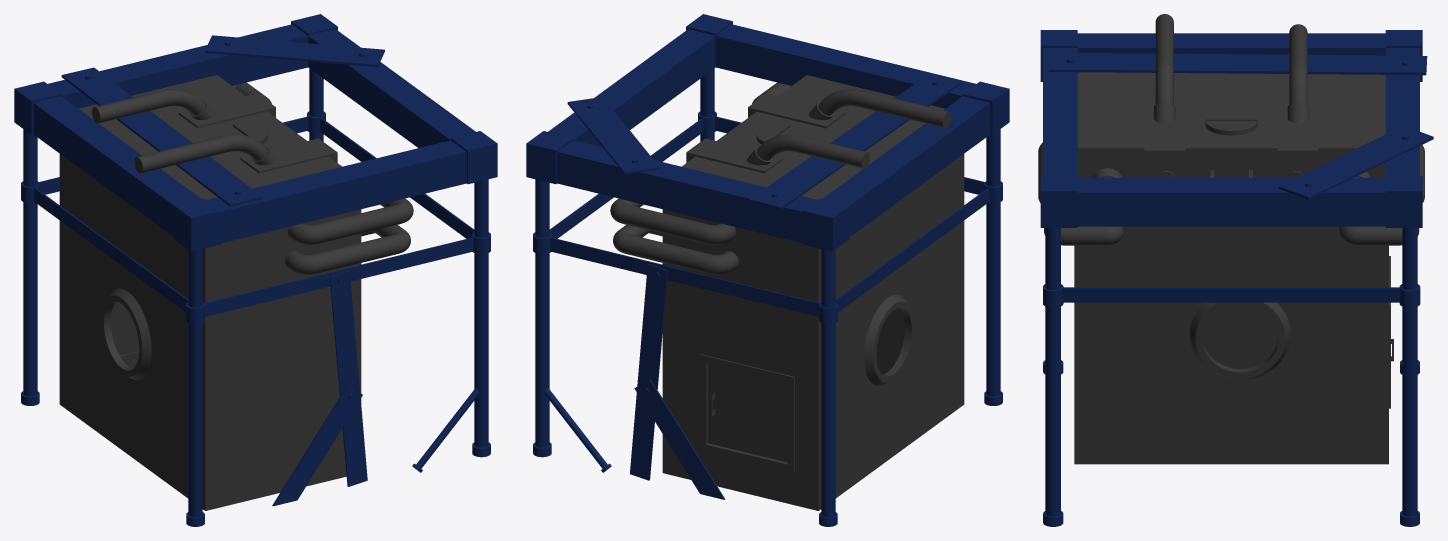
File: Mesh_GreenGym_Base_Glove01.FBX
3 renders of one model, left to right at view 1: azimuth 30°, elevation 25°; view 2: azimuth 150°, elevation 25°; view 3: azimuth 270°, elevation 25°, orthographic. The views are drawn at different scales.
Parts seen in each view (by area): view 1: Mesh_GreenGym_Base_Glove01; view 2: Mesh_GreenGym_Base_Glove01; view 3: Mesh_GreenGym_Base_Glove01.
Boxes of the visible parts, bbox=[...] form: Mesh_GreenGym_Base_Glove01: bbox=[14, 14, 497, 526]; Mesh_GreenGym_Base_Glove01: bbox=[526, 14, 1009, 526]; Mesh_GreenGym_Base_Glove01: bbox=[1038, 14, 1433, 526].
Size of what is drawn, in the model's own units: 252 by 252 by 252.
